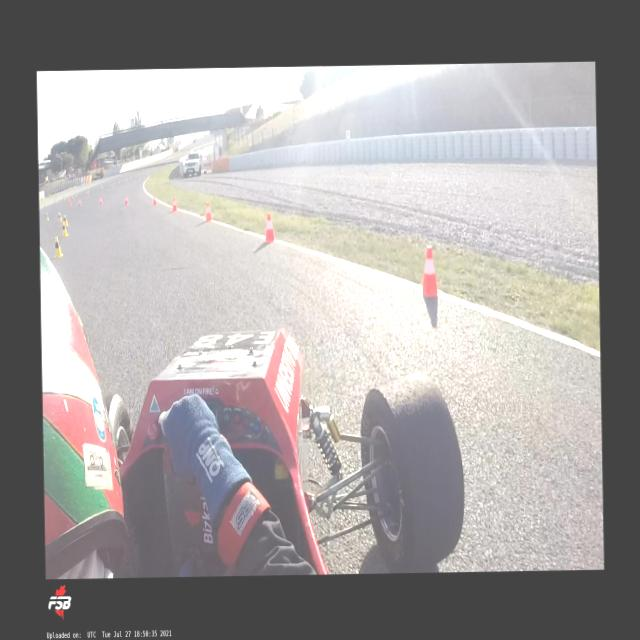orange_cone: (416, 244, 440, 298), (262, 212, 276, 243), (203, 200, 213, 222), (170, 196, 177, 212), (152, 192, 156, 205), (124, 193, 128, 204), (99, 196, 102, 205), (78, 198, 81, 205), (68, 199, 71, 206), (72, 195, 74, 202)
yellow_cone: (53, 235, 63, 258), (60, 220, 69, 237), (44, 210, 49, 222), (64, 213, 68, 226), (58, 210, 62, 222)
